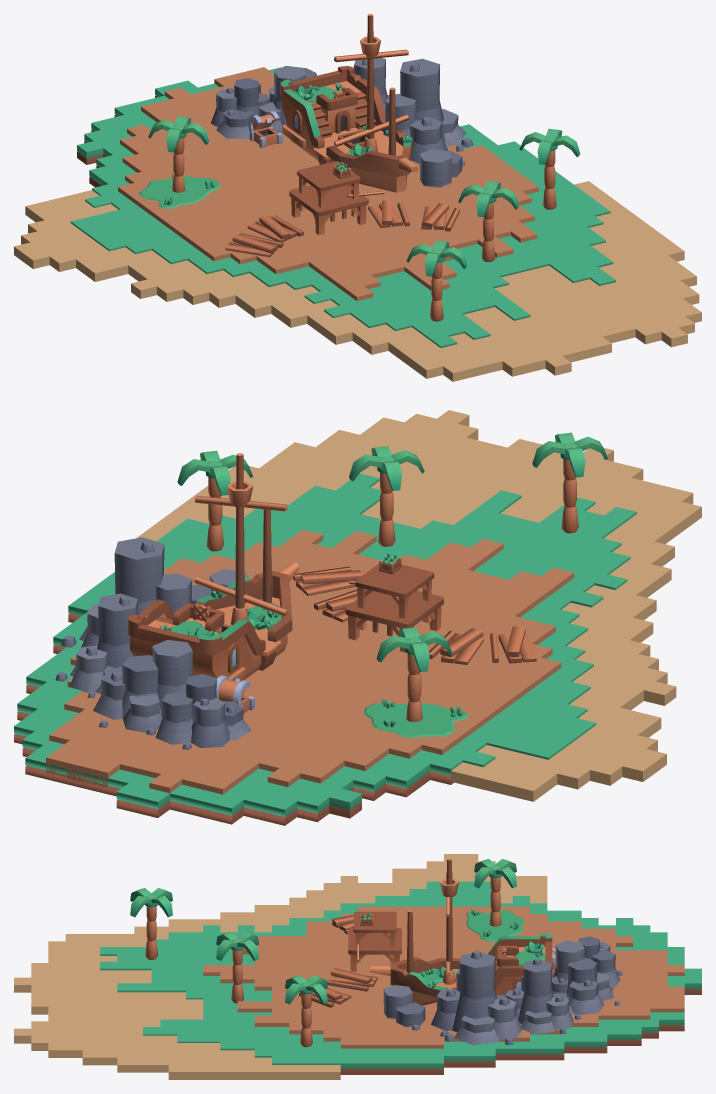
The model's file is IslandMap.glb.
The picture shows the model from 3 angles, top to bottom: view 1: azimuth 30°, elevation 25°; view 2: azimuth 150°, elevation 25°; view 3: azimuth 270°, elevation 25°; orthographic projection. The views are drawn at different scales.
Visible parts, largest first — view 1: ship-wreck, rocks-b, square_sand.024, square_rock.006, square_rock.004, square_rock.008, square_rock.007, square_rock.005, square_sand.025, rocks-c, square_rock.003, square_forest_detail.004 (+75 smaller); view 2: ship-wreck, rocks-a.001, square_rock.006, square_rock.008, square_sand.024, square_rock.004, square_rock.007, rocks-c, square_rock.005, rocks-b, square_sand.025, rocks-b.001 (+78 smaller); view 3: rocks-b, ship-wreck, rocks-b.001, square_sand.024, rocks-a.001, square_forest_detail.027, square_sand.032, square_forest_detail.028, square_forest_detail.029, square_sand.025, square_forest_detail.026, square_forest_detail.025 (+70 smaller).
Boxes of the visible parts, x1,y1,x2,y2 form: ship-wreck: (280,14,418,192); rocks-b: (383,58,473,163); square_sand.024: (494,273,611,362); square_rock.006: (141,102,387,277); square_rock.004: (127,124,373,301); square_rock.008: (164,87,449,290); square_rock.007: (158,98,404,274); square_rock.005: (154,129,380,288); square_sand.025: (516,265,635,343); rocks-c: (211,78,269,138); square_rock.003: (120,135,308,269); square_forest_detail.004: (92,184,223,273); ship-wreck: (128,453,299,680); rocks-a.001: (93,640,192,732); square_rock.006: (202,575,508,794); square_rock.008: (149,539,503,801); square_sand.024: (403,439,563,528); square_rock.004: (267,567,573,786); square_rock.007: (182,570,487,789); rocks-c: (146,674,251,750); square_rock.005: (259,571,540,771); rocks-b: (61,537,192,647); square_sand.025: (361,437,506,524); rocks-b.001: (55,593,137,698); rocks-b: (431,950,522,1045); ship-wreck: (370,858,552,1005); rocks-b.001: (505,958,581,1034); square_sand.024: (31,985,203,1014); rocks-a.001: (552,940,620,1014); square_forest_detail.027: (220,1041,564,1060); square_sand.032: (168,1065,340,1079); square_forest_detail.028: (254,1048,495,1067); square_forest_detail.029: (272,1056,443,1074); square_sand.025: (48,1006,203,1021); square_forest_detail.026: (177,1034,607,1053); square_forest_detail.025: (143,1027,641,1045).
Bounding box in the file's own units: 60 × 20.83 × 80.
Materials: 132 (20 with a texture image).
